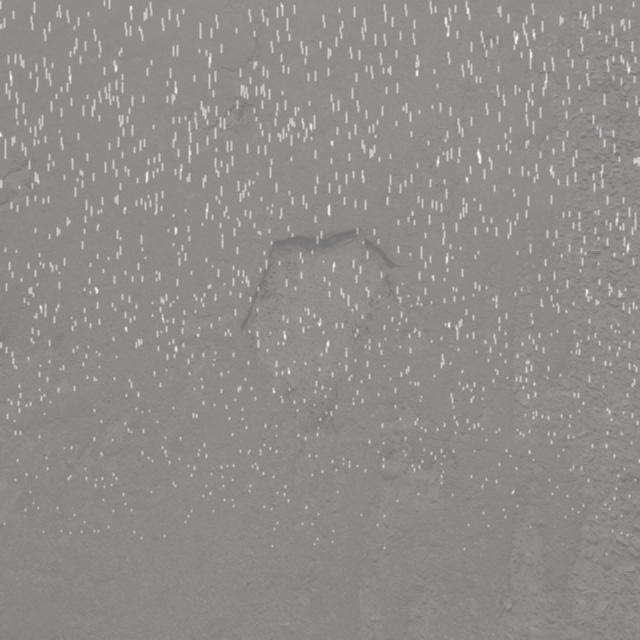Pothole: (222, 216, 424, 408)
